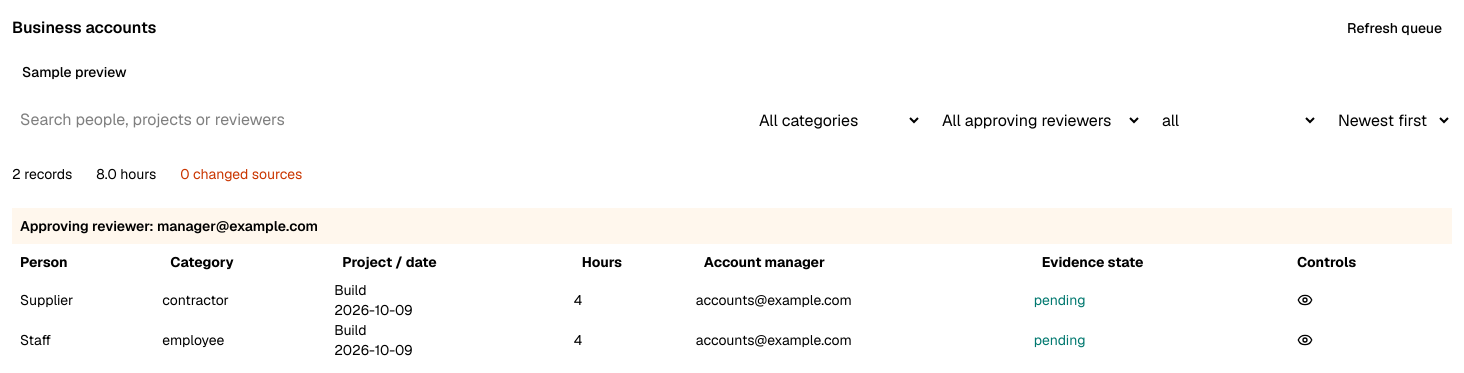
groups approved evidence and filters internal employees
Expected: the text "Supplier" is shown, x1=12 y1=280 x2=162 y2=320
Expected: the heading "Approving reviewer: manager@example.com" is shown, x1=12 y1=208 x2=1452 y2=244
Select "Internal employees" in the dropdown named "Category" at (834, 120), box x1=747 y1=100 x2=922 y2=140
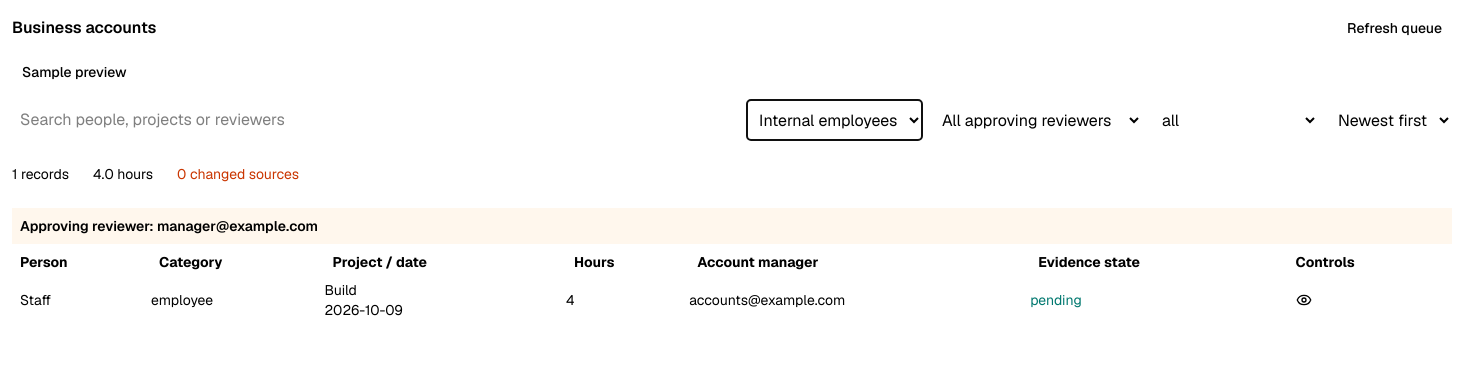
Expected: the text "Staff" is shown, x1=12 y1=280 x2=151 y2=320
Expected: the text "Supplier" is gone
